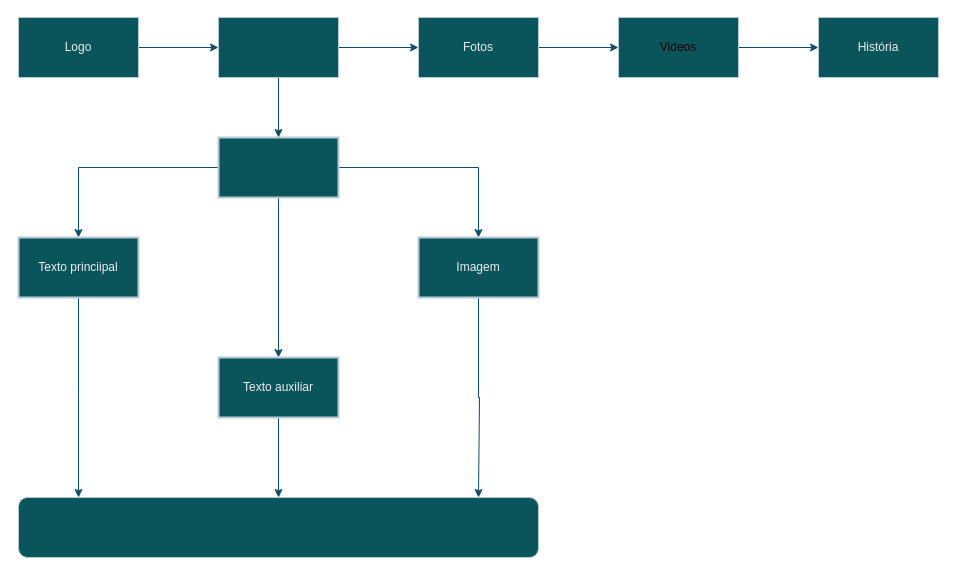
The diagram is 956 pixels wide and 575 high, and some of its shapes have lost their labels. The centre of each missing label's shape, as x and y in pixels:
"Página inicial" belongs at [278,47].
"RODAPÉ" belongs at [278,527].
"Título padrão" belongs at [278,167].
